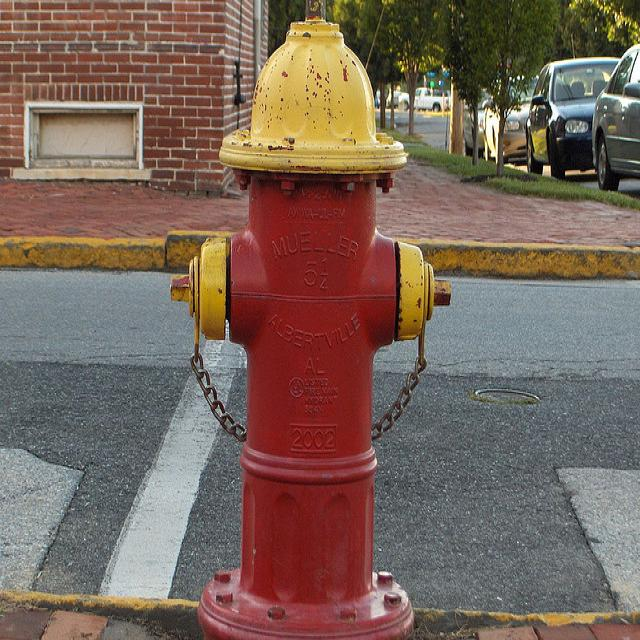Vehicle: (524, 58, 620, 178), (594, 45, 640, 192), (482, 78, 539, 160), (463, 112, 488, 150), (415, 88, 450, 112)
